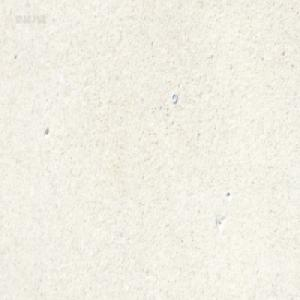Washer: (171, 93, 177, 103)
